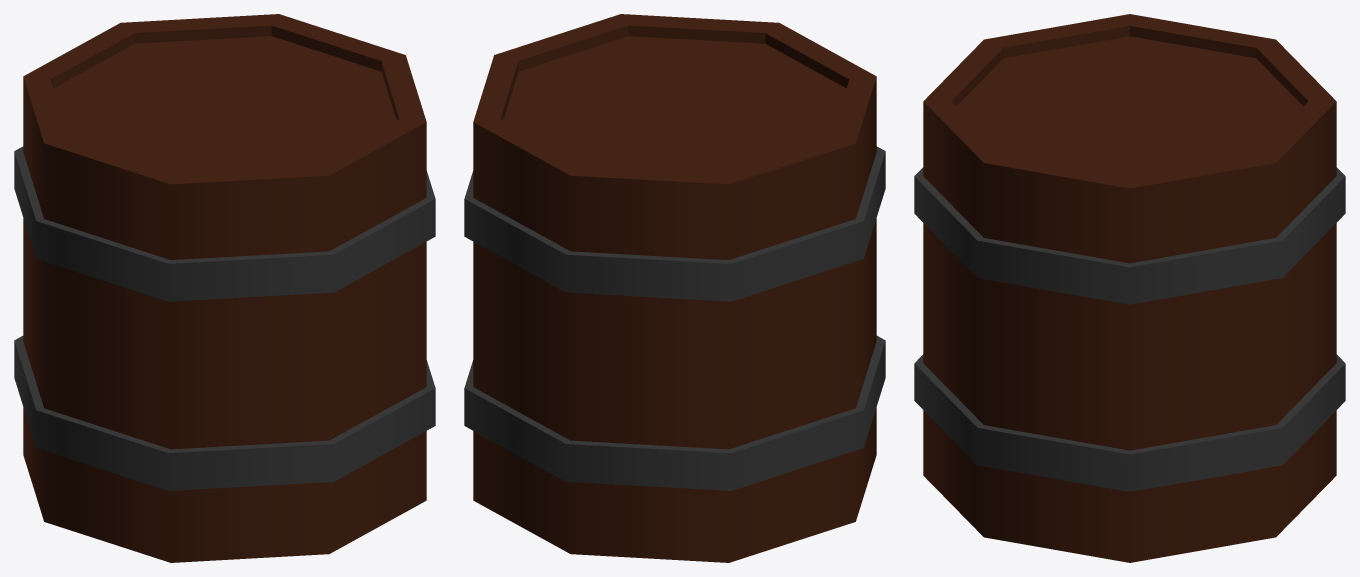
Rendered from barrel.FBX.
The picture shows the model from 3 angles, left to right: view 1: azimuth 30°, elevation 25°; view 2: azimuth 150°, elevation 25°; view 3: azimuth 270°, elevation 25°; orthographic projection.
Visible parts, largest first — view 1: Cylinder001; view 2: Cylinder001; view 3: Cylinder001.
Boxes of the visible parts, bbox=[...] form: Cylinder001: bbox=[14, 14, 435, 562]; Cylinder001: bbox=[464, 14, 885, 562]; Cylinder001: bbox=[914, 14, 1345, 562].
Size of the model in its own units: 1.04 by 1 by 1.04.
